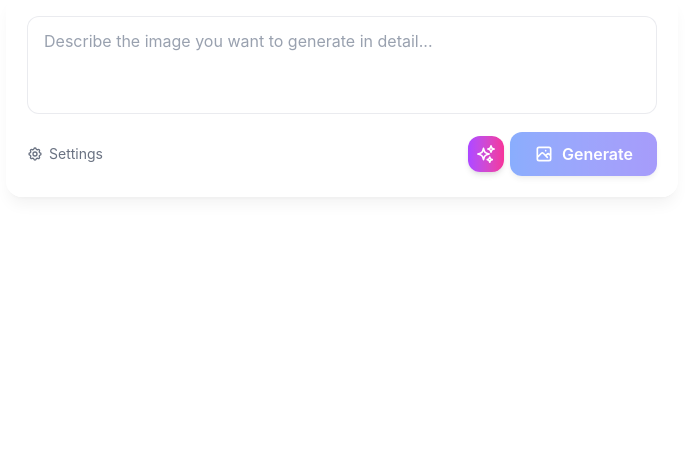
Test: ImageGenerator › settings panel › collapses settings panel when clicking Hide settings
Click the button "Settings".
click(65, 154)  # box top-left (27, 144), bottom-right (103, 164)
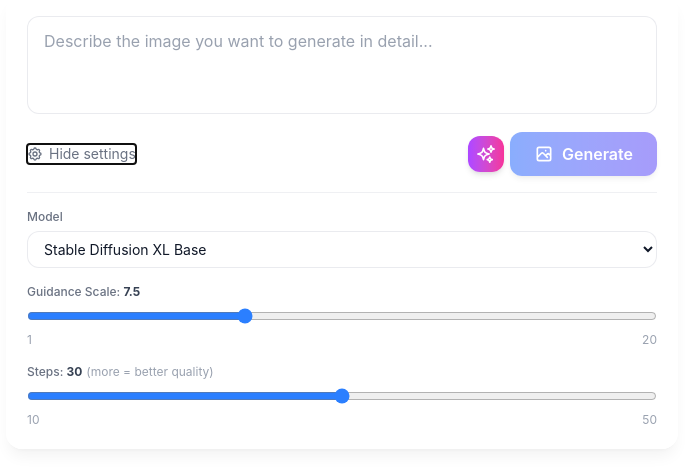
Expected: the text "Model" is shown, top-left (27, 209), bottom-right (63, 224)
Click the button "Hide settings".
click(81, 154)  # box top-left (27, 144), bottom-right (136, 164)
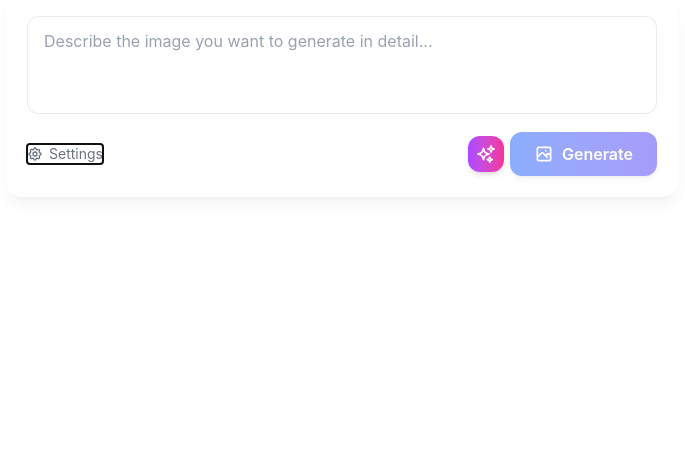
Expected: the text "Model" is gone
